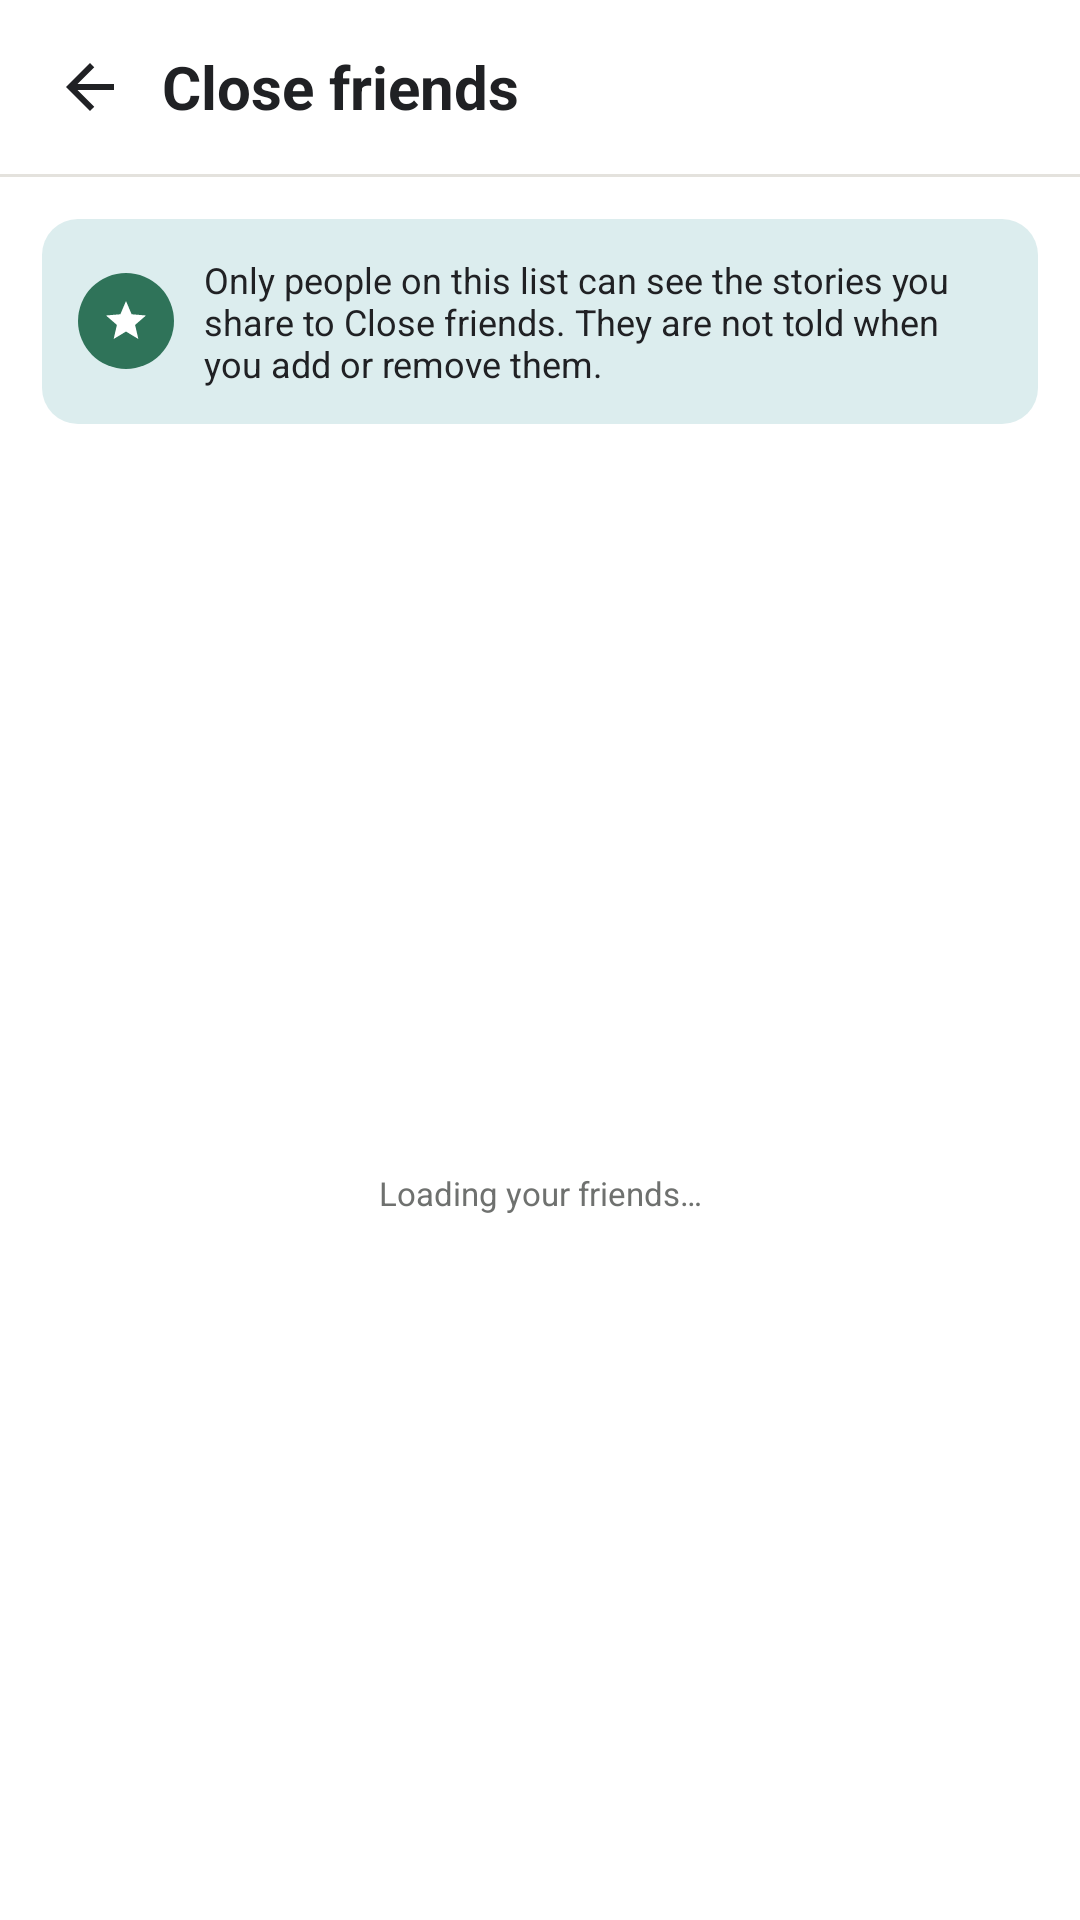

Icons on this 1080px x 1920px Android screen, each with the point to tap as (x=x, y=y):
Back: (x=90, y=87)
